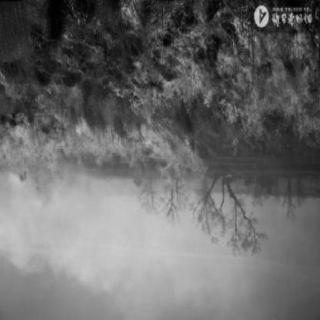Fire: (2, 9, 316, 199)
